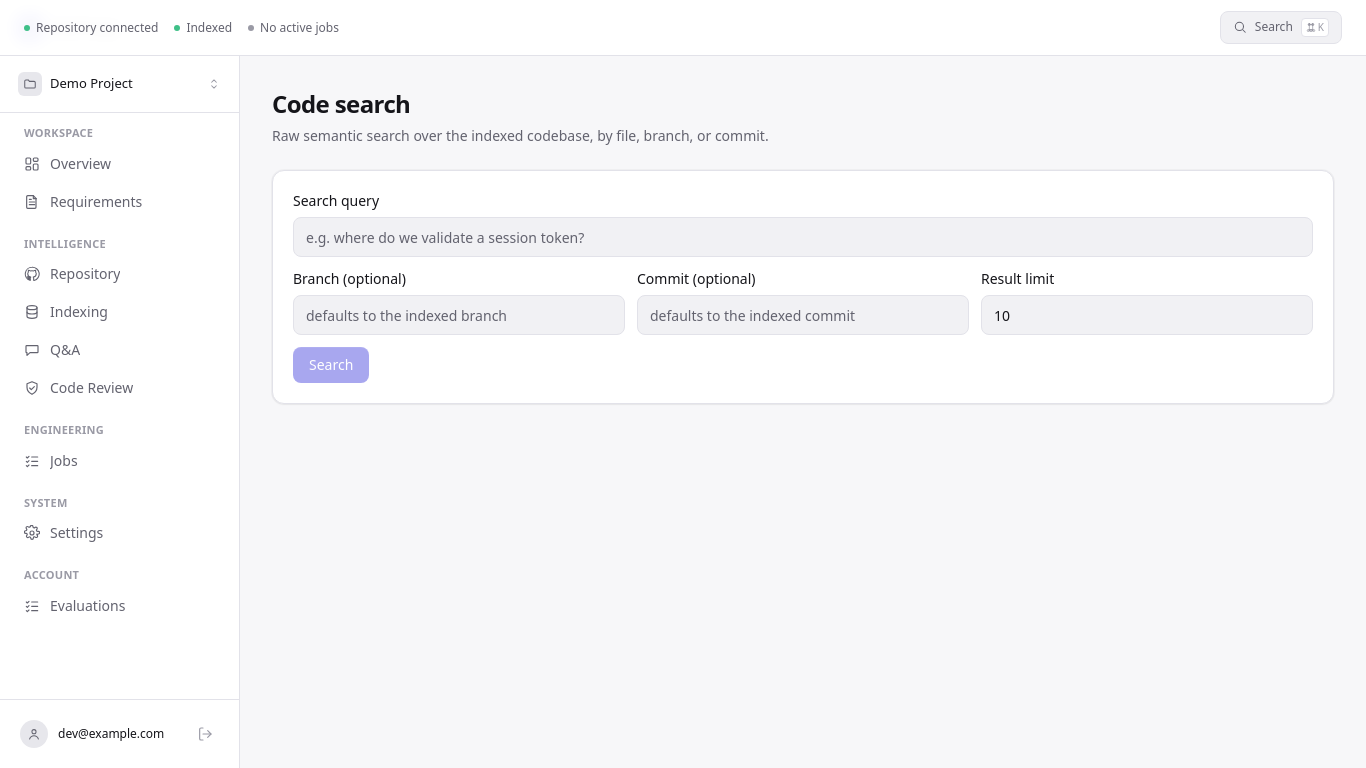
Test: CodeSearch — ready state › shows a real empty state, not nothing, for a genuinely empty result set
Type "something obscure" into the field labelled "Search query" at (803, 237), box x1=293 y1=217 x2=1313 y2=257
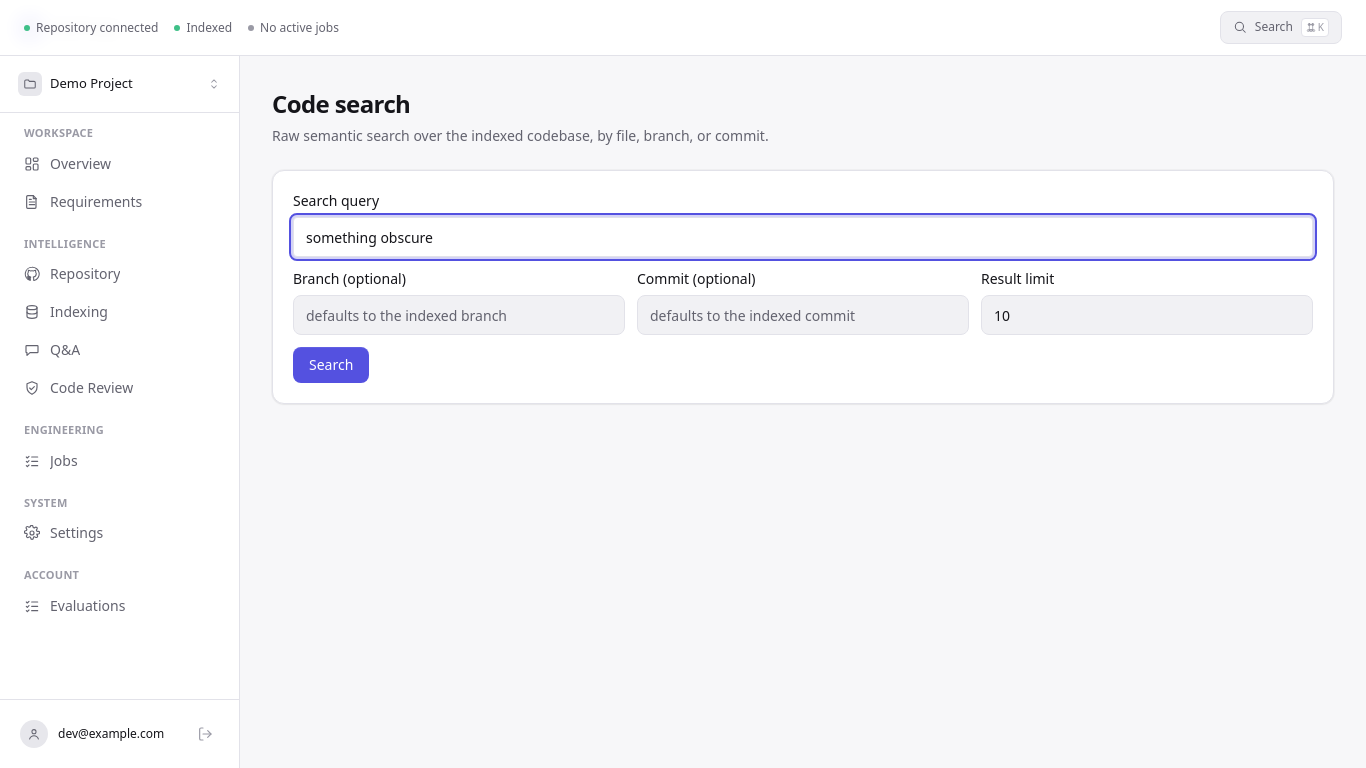
Click the button "Search" at (331, 365), box x1=293 y1=347 x2=369 y2=383
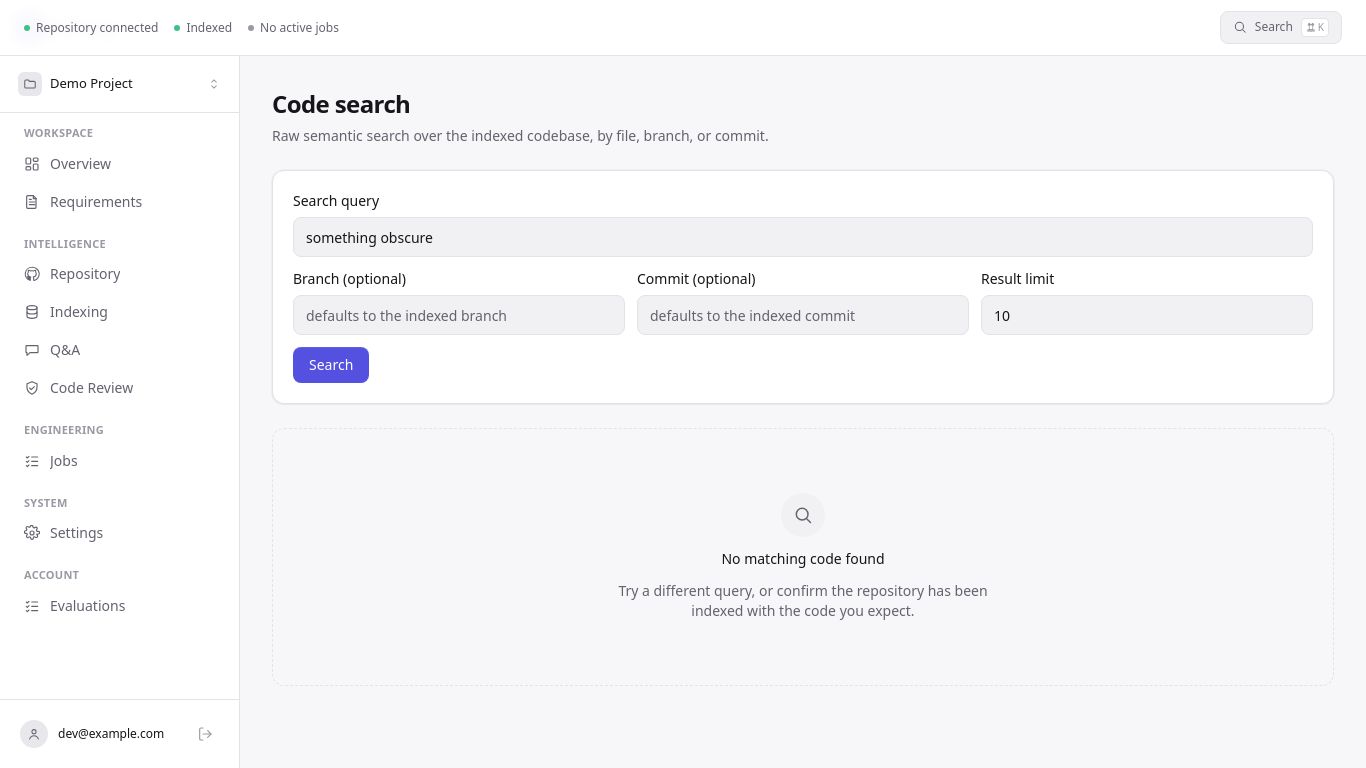
Expected: the text "No matching code found" is shown, x1=721 y1=549 x2=885 y2=569
